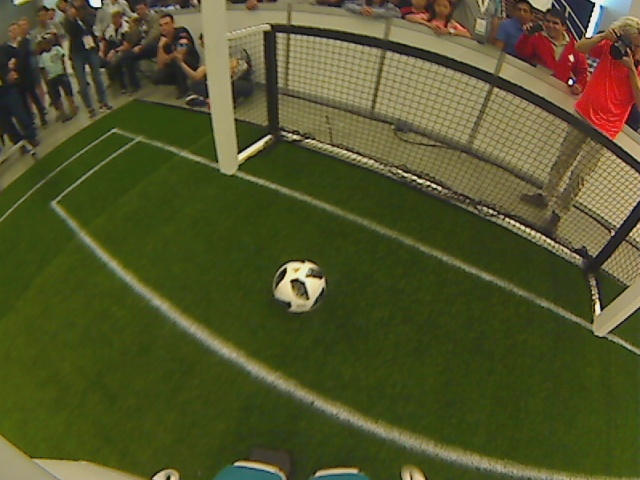ball: (270, 260, 325, 311)
